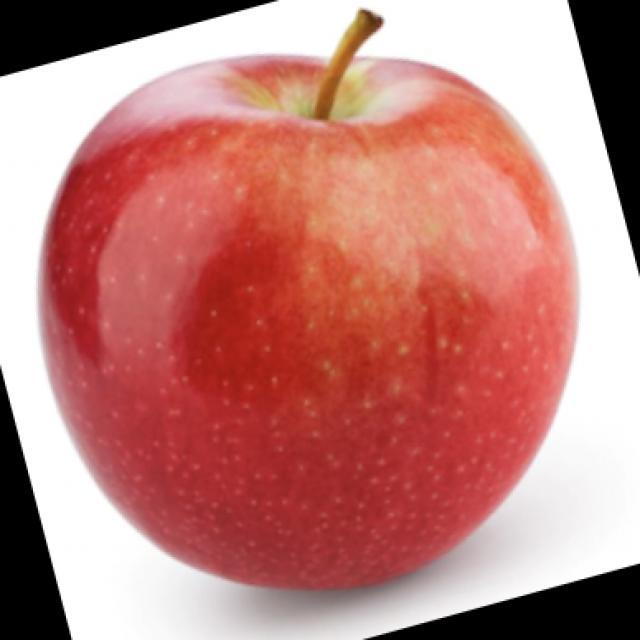Fresh Apple: (35, 48, 572, 597)
